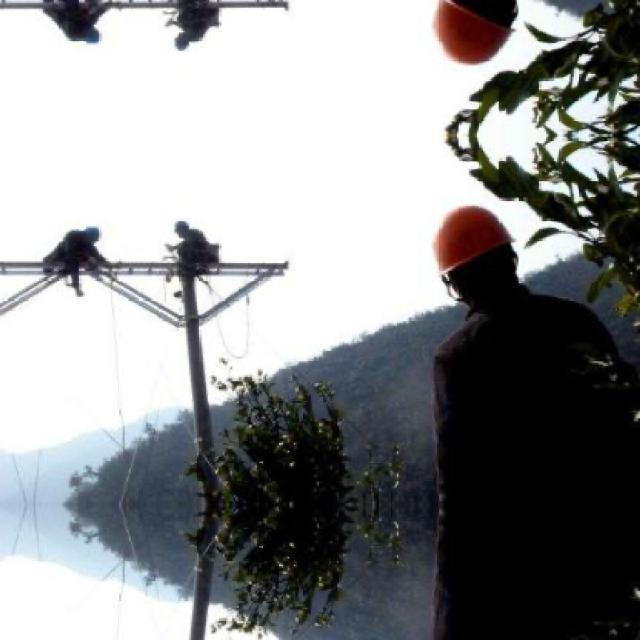con casco: (422, 199, 544, 307)
